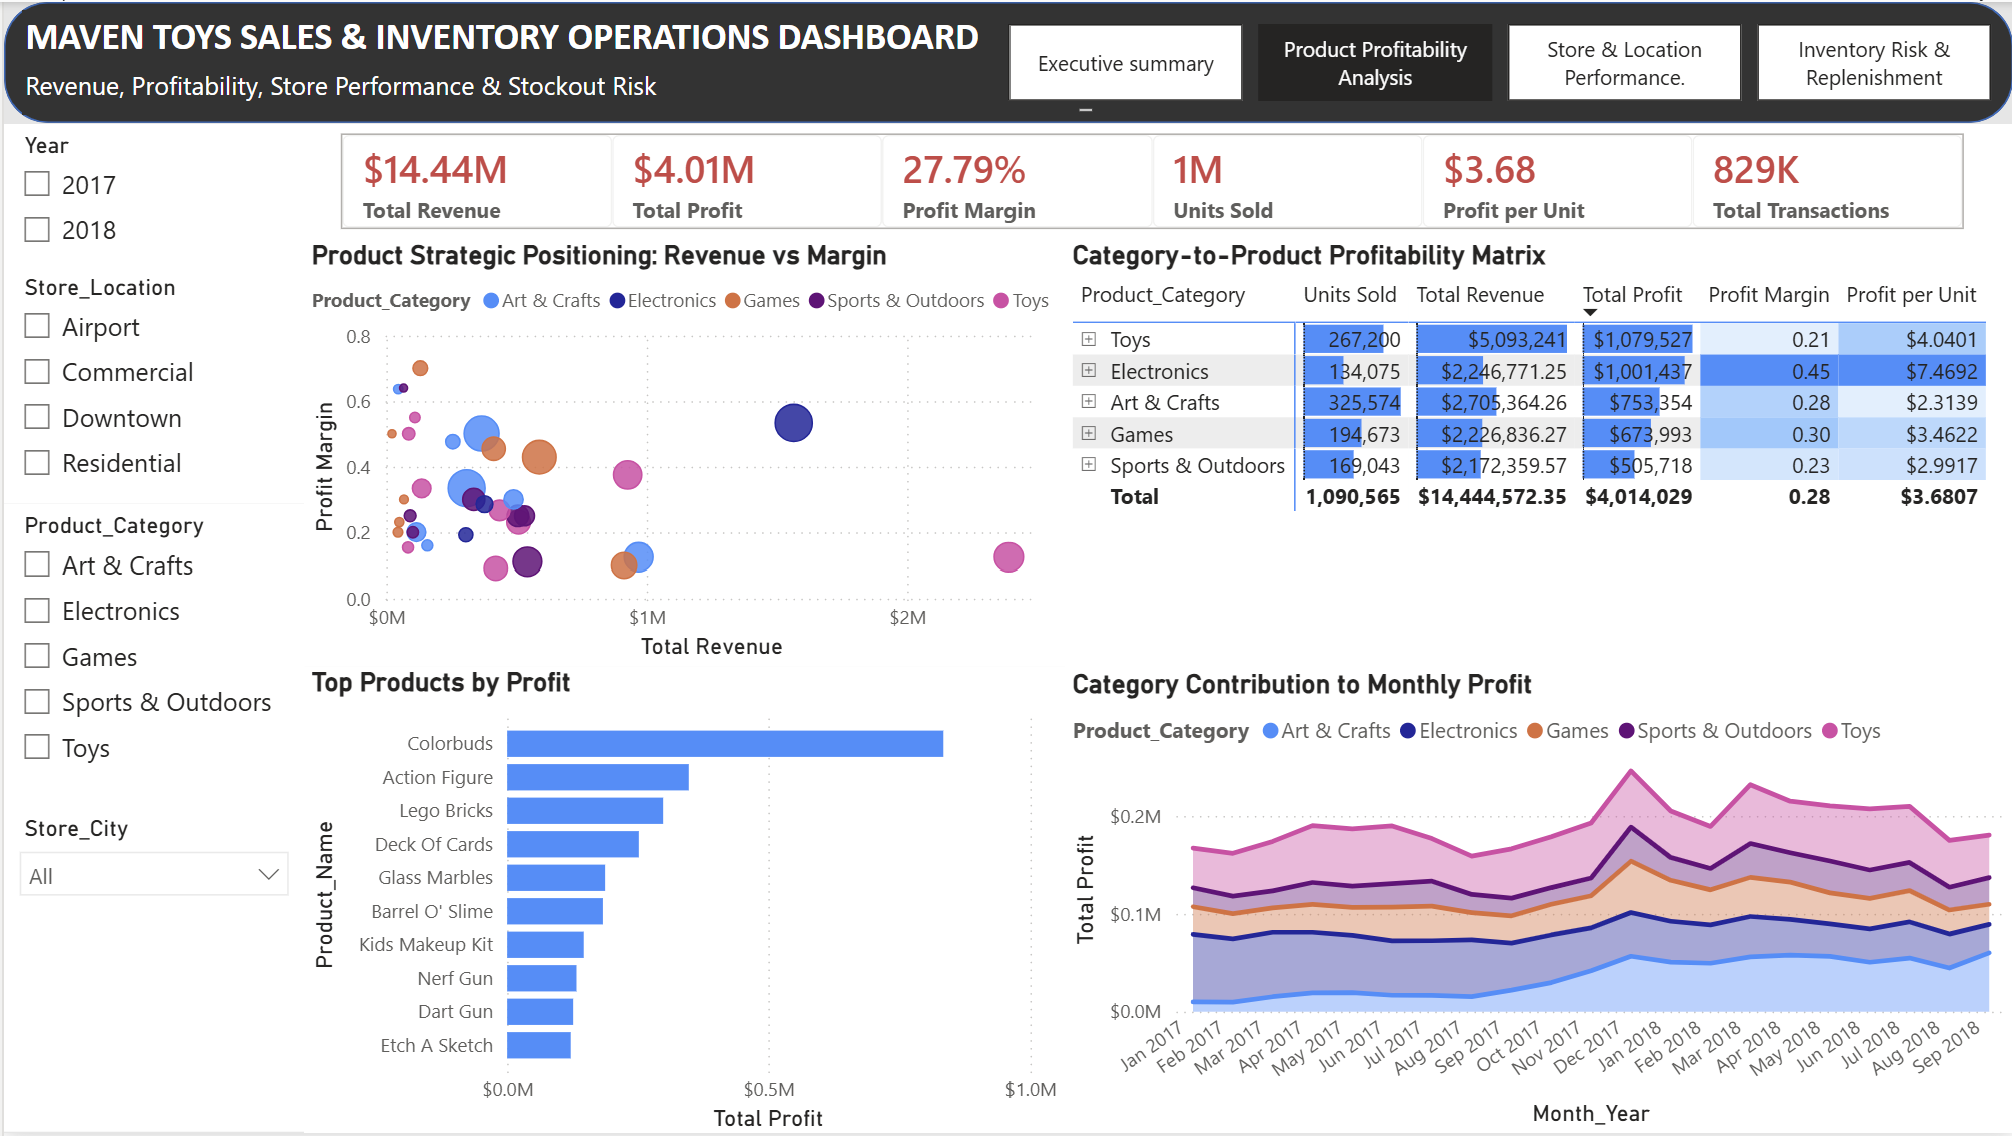

The dashboard page shown, as its layout file describes it:
{"tool":"powerbi","page":{"name":"Product Profitability Analysis","canvas":[1280,720],"ordinal":1},"visuals":[{"type":"slicer","fields":{"Values":["DimStore.Store_City"]},"box":[0,512.9,191.4,207.1],"z":0},{"type":"slicer","fields":{"Values":["DimStore.Store_Location"]},"box":[0,168.8,191.2,151.2],"z":1000},{"type":"slicer","fields":{"Values":["DimDate.Year"]},"box":[0,77.5,191.2,91.2],"z":2000},{"type":"slicer","fields":{"Values":["DimProduct.Product_Category"]},"box":[0,320,191.2,192.5],"z":3000},{"type":"cardVisual","fields":{"Data":["vw_sales_profit.Total Revenue","vw_sales_profit.Total Profit","vw_sales_profit.Profit Margin","vw_sales_profit.Units Sold","vw_sales_profit.Profit per Unit","vw_sales_profit.Total Transactions"]},"box":[188.7,77.8,1091.3,73.9],"z":4000},{"type":"scatterChart","title":"Product Strategic Positioning: Revenue vs Margin","fields":{"X":["vw_sales_profit.Total Revenue"],"Y":["vw_sales_profit.Profit Margin"],"Size":["vw_sales_profit.Units Sold"],"Series":["DimProduct.Product_Category"],"Category":["DimProduct.Product_Name"]},"box":[191.2,151.7,484.5,271.6],"z":5000},{"type":"pivotTable","title":"Category-to-Product Profitability Matrix","fields":{"Rows":["DimProduct.Product Hierarchy.Product_Category","DimProduct.Product Hierarchy.Product_Name"],"Values":["vw_sales_profit.Units Sold","vw_sales_profit.Total Revenue","vw_sales_profit.Total Profit","vw_sales_profit.Profit Margin","vw_sales_profit.Profit per Unit"]},"box":[675.7,151.7,604.3,272.8],"z":6000},{"type":"clusteredBarChart","title":"Top Products by Profit","fields":{"Category":["DimProduct.Product_Name"],"Y":["vw_sales_profit.Total Profit"]},"box":[191.2,423.3,484.5,300.9],"z":7000},{"type":"stackedAreaChart","title":"Category Contribution to Monthly Profit","fields":{"Category":["DimDate.Month_Year"],"Y":["vw_sales_profit.Total Profit"],"Series":["DimProduct.Product_Category"]},"box":[675.7,424.5,604.3,295.8],"z":8000},{"type":"shape","box":[0,0,1280,77.1],"z":9000},{"type":"textbox","title":"MAVEN TOYS SALES & INVENTORY OPERATIONS DASHBOARD","box":[11.5,5.1,683.3,66.3],"z":10000},{"type":"pageNavigator","box":[640,14,628.5,49.7],"z":11000}]}

Visuals, with their boxes in screenshot pixels (x1, y1, x2, y2), scaled from the page's 1280x720 canvas onto the 2012x1136 screenshot:
slicer - DimStore.Store_City: 0, 809, 301, 1135
slicer - DimStore.Store_Location: 0, 266, 301, 505
slicer - DimDate.Year: 0, 122, 301, 266
slicer - DimProduct.Product_Category: 0, 505, 301, 809
cardVisual - vw_sales_profit.Total Revenue x vw_sales_profit.Total Profit: 297, 123, 2011, 239
"Product Strategic Positioning: Revenue vs Margin" scatterChart: 301, 239, 1062, 668
"Category-to-Product Profitability Matrix" pivotTable: 1062, 239, 2011, 670
"Top Products by Profit" clusteredBarChart: 301, 668, 1062, 1135
"Category Contribution to Monthly Profit" stackedAreaChart: 1062, 670, 2011, 1135
shape: 0, 0, 2011, 122
"MAVEN TOYS SALES & INVENTORY OPERATIONS DASHBOARD" textbox: 18, 8, 1092, 113
pageNavigator: 1006, 22, 1994, 101
